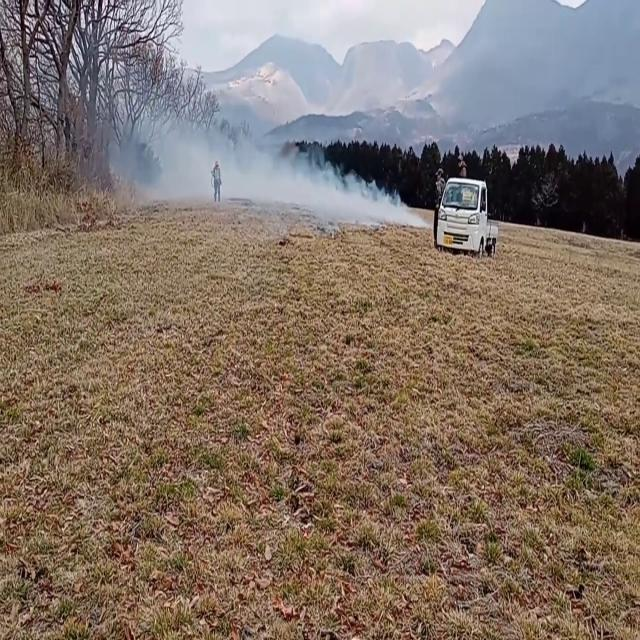Smoke: (97, 80, 409, 234)
